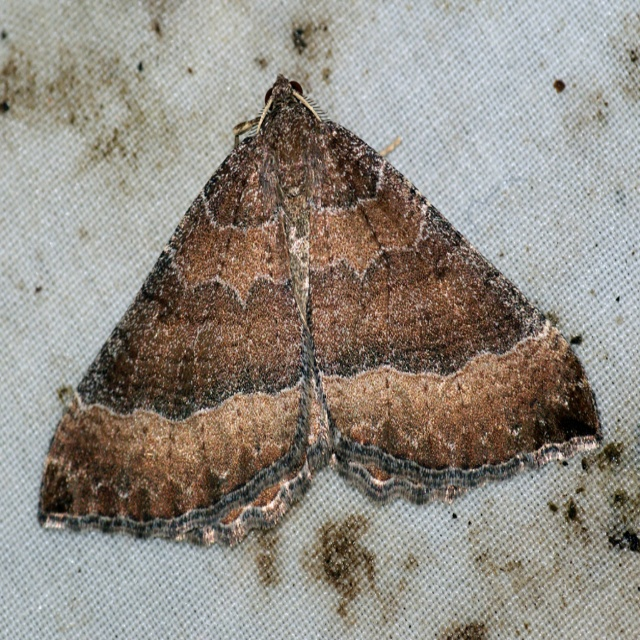Moths and butterflies: (33, 72, 605, 549)
